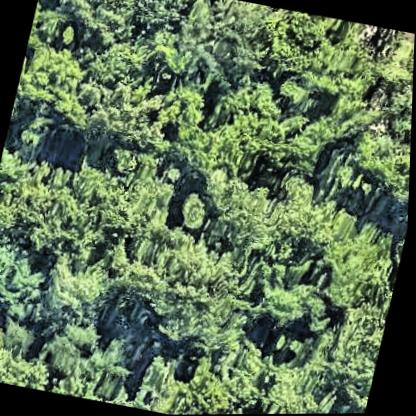tree-top: (201, 69, 325, 176), (158, 0, 280, 96), (34, 312, 146, 404), (74, 53, 174, 152), (0, 154, 91, 256), (320, 215, 400, 311), (255, 9, 352, 86), (345, 106, 413, 204), (134, 352, 239, 415), (204, 176, 285, 255), (37, 254, 121, 325), (14, 39, 89, 114), (254, 272, 324, 340), (0, 320, 60, 390), (52, 0, 140, 47), (0, 239, 49, 320), (172, 186, 219, 236), (10, 107, 52, 151)
